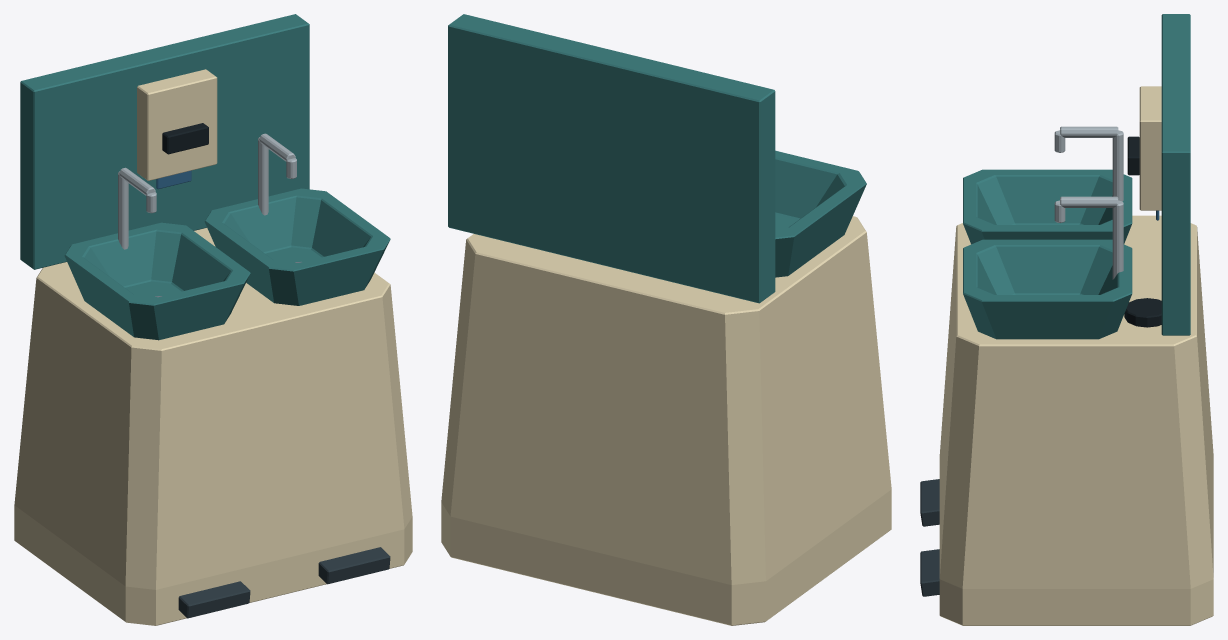
File: b20_dual_pump_handwash_station.glb
3 renders of one model, left to right at view 1: azimuth 30°, elevation 25°; view 2: azimuth 150°, elevation 25°; view 3: azimuth 270°, elevation 25°, orthographic. The views are drawn at different scales.
Parts seen in each view (by area): view 1: b20_dual_pump_handwash_station; view 2: b20_dual_pump_handwash_station; view 3: b20_dual_pump_handwash_station.
Boxes of the visible parts, box(x1,y1,x2,y2) form: b20_dual_pump_handwash_station: box(14, 14, 412, 625); b20_dual_pump_handwash_station: box(441, 14, 891, 625); b20_dual_pump_handwash_station: box(920, 14, 1213, 625).
Size of the model in its own units: 0.82 by 1.25 by 0.7067.
